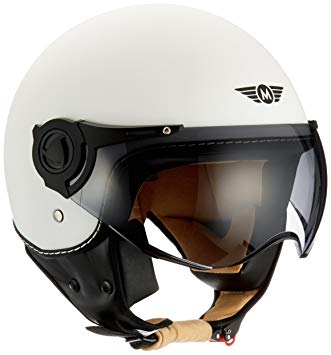with_helmet: (4, 7, 331, 283)
